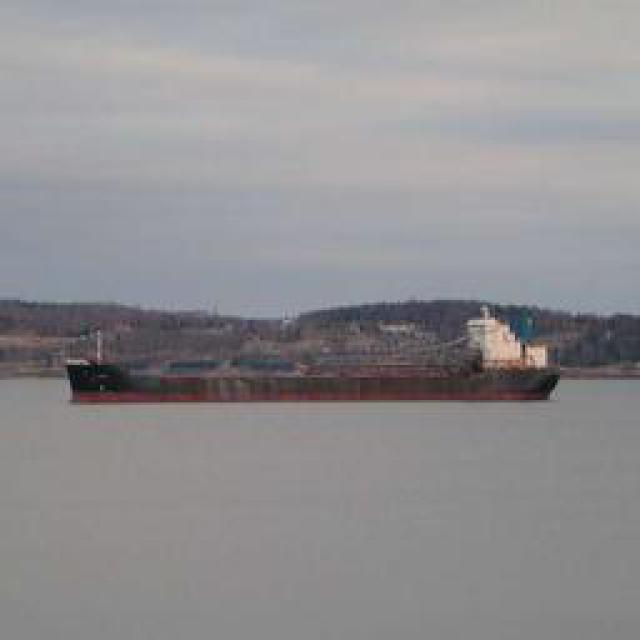Ship: (75, 321, 565, 401)
